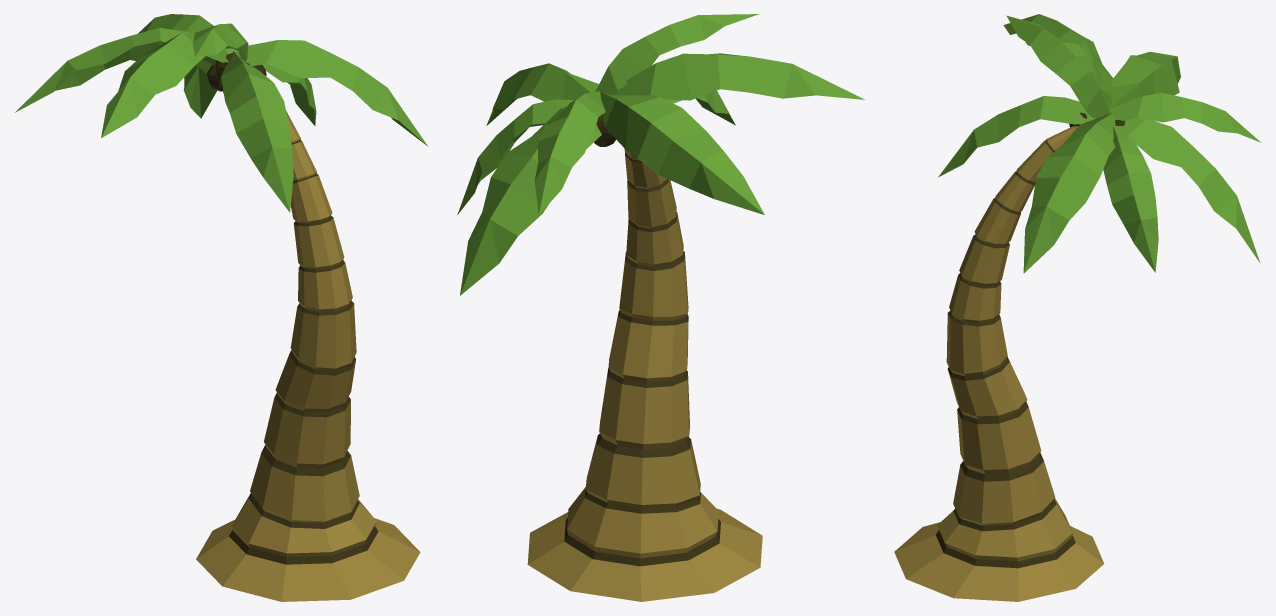
File: tree000.fbx
3 renders of one model, left to right at view 1: azimuth 30°, elevation 25°; view 2: azimuth 150°, elevation 25°; view 3: azimuth 270°, elevation 25°, orthographic. The views are drawn at different scales.
Parts seen in each view (by area): view 1: polySurface11224; view 2: polySurface11224; view 3: polySurface11224.
Part boxes in pixels (x1=…): polySurface11224: x1=15, y1=14, x2=427, y2=601; polySurface11224: x1=457, y1=14, x2=864, y2=601; polySurface11224: x1=894, y1=14, x2=1261, y2=601.
Bounding box in the file's own units: 31.18 × 46.41 × 31.14.
